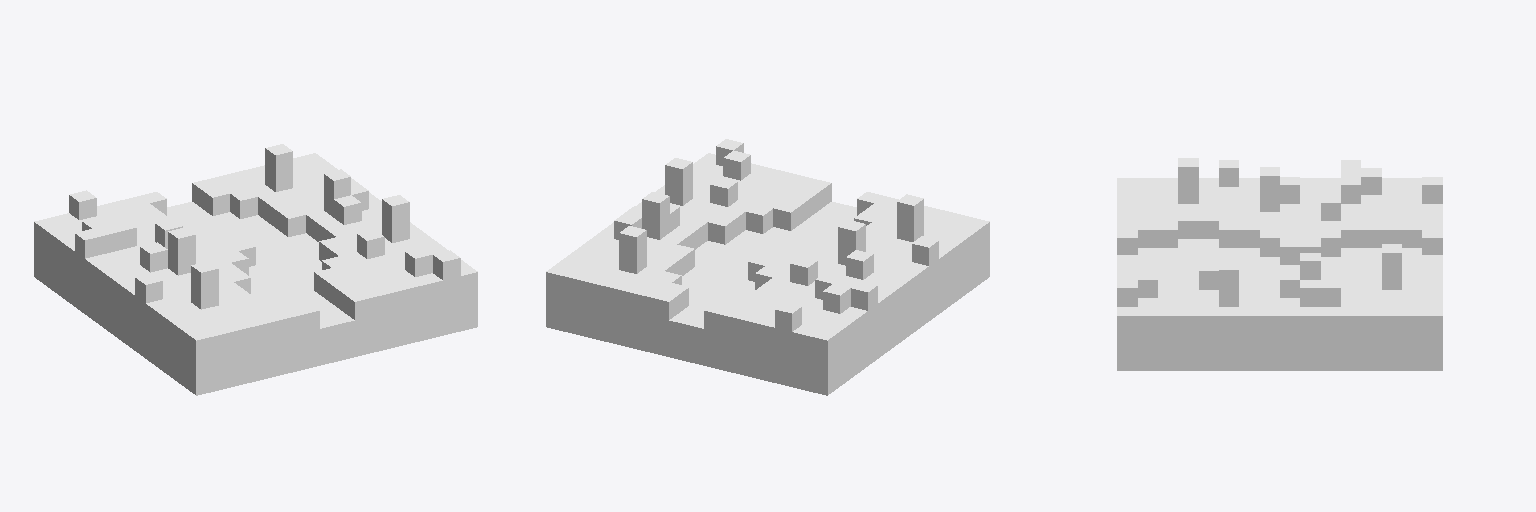
File: river.obj
3 views of the same model, side by side, from view 1: azimuth 30°, elevation 25°; view 2: azimuth 150°, elevation 25°; view 3: azimuth 270°, elevation 25° (orthographic).
Visible parts, largest first — view 1: CaveStraight; view 2: CaveStraight; view 3: CaveStraight.
Boxes of the visible parts, <box> form: CaveStraight: <box>34,144,477,395</box>; CaveStraight: <box>546,139,989,395</box>; CaveStraight: <box>1117,158,1442,370</box>.
Bounding box in the file's own units: 16 × 5 × 16.